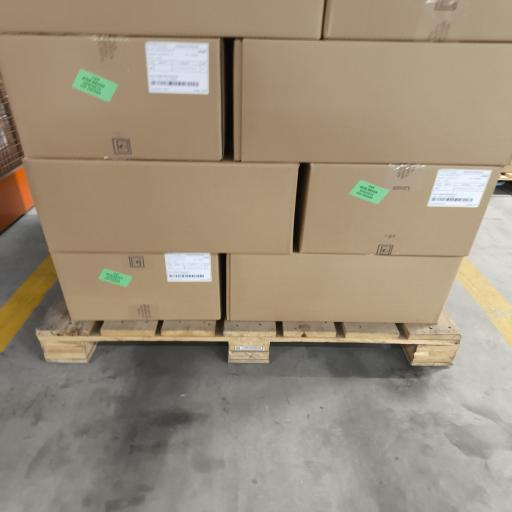pallet: (36, 300, 461, 365)
